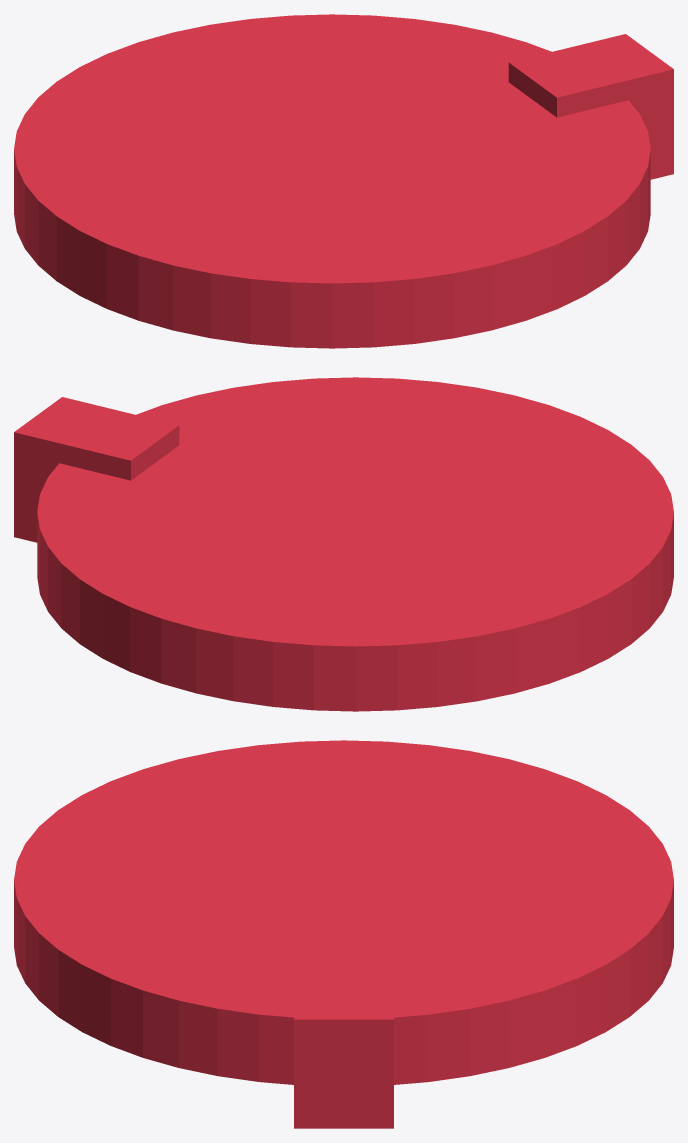
The model's file is bandana_cerberus.glb.
3 views of the same model, one above another, from view 1: azimuth 30°, elevation 25°; view 2: azimuth 150°, elevation 25°; view 3: azimuth 270°, elevation 25° (orthographic). The views are drawn at different scales.
Parts seen in each view (by area): view 1: Bandana, Bandana_Knot; view 2: Bandana, Bandana_Knot; view 3: Bandana, Bandana_Knot.
Boxes of the visible parts, left/top/right/bottom form: Bandana: left=14, top=14, right=650, bottom=348; Bandana_Knot: left=508, top=34, right=673, bottom=179; Bandana: left=37, top=377, right=673, bottom=711; Bandana_Knot: left=14, top=397, right=179, bottom=542; Bandana: left=14, top=740, right=673, bottom=1084; Bandana_Knot: left=294, top=960, right=393, bottom=1128.
Bounding box in the file's own units: 0.71 × 0.12 × 0.66.
